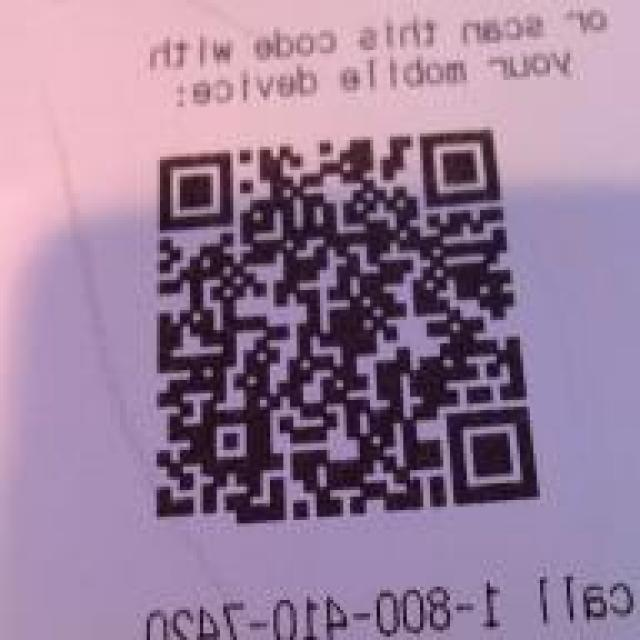qr_code: (156, 129, 541, 525)
